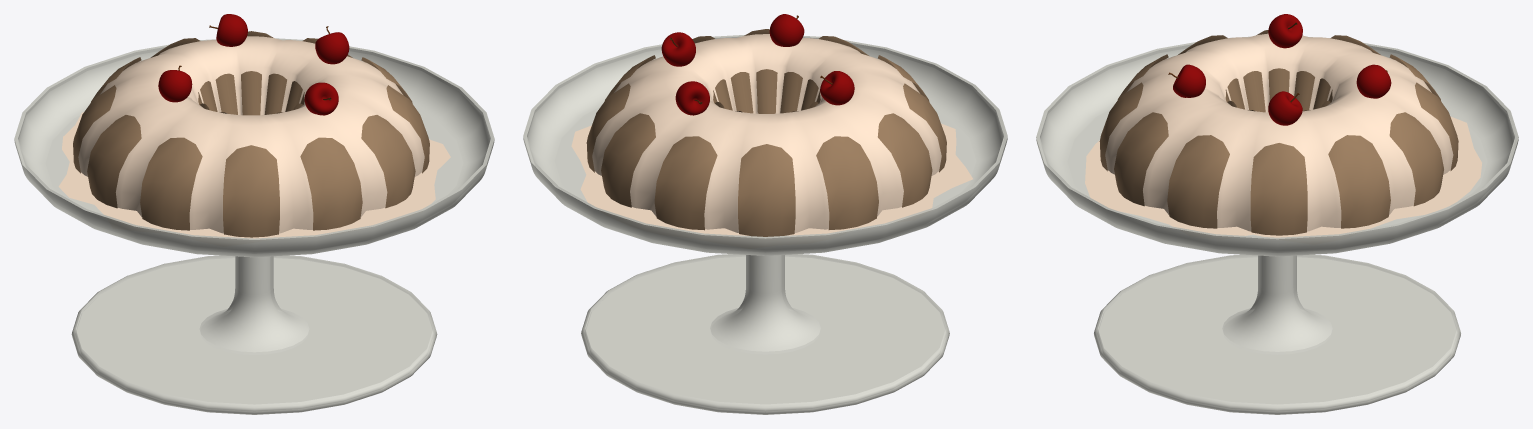
The model's file is cake.fbx.
The picture shows the model from 3 angles, left to right: view 1: azimuth 30°, elevation 25°; view 2: azimuth 150°, elevation 25°; view 3: azimuth 270°, elevation 25°; orthographic projection.
Parts seen in each view (by area): view 1: Model, Component_4_1, Component_1_1, Patch0_3, Patch0_2, Patch0_1, Patch0_4; view 2: Model, Component_4_1, Component_1_1, Patch0_1, Patch0_4, Patch0_2, Patch0_3; view 3: Model, Component_4_1, Component_1_1, Patch0_2, Patch0_4, Patch0_1, Patch0_3.
Boxes of the visible parts, <box> form: Model: <box>14,38,494,414</box>; Component_4_1: <box>58,36,450,238</box>; Component_1_1: <box>73,31,429,237</box>; Patch0_3: <box>304,82,338,115</box>; Patch0_2: <box>158,70,192,102</box>; Patch0_1: <box>315,32,349,64</box>; Patch0_4: <box>216,14,247,46</box>; Model: <box>523,34,1007,414</box>; Component_4_1: <box>571,34,972,235</box>; Component_1_1: <box>586,29,946,236</box>; Patch0_1: <box>661,32,695,66</box>; Patch0_4: <box>675,81,709,115</box>; Patch0_2: <box>820,71,854,105</box>; Patch0_3: <box>769,14,804,46</box>; Model: <box>1036,36,1518,414</box>; Component_4_1: <box>1085,33,1481,237</box>; Component_1_1: <box>1099,30,1458,235</box>; Patch0_2: <box>1268,14,1302,48</box>; Patch0_4: <box>1356,64,1391,98</box>; Patch0_1: <box>1268,91,1302,125</box>; Patch0_3: <box>1173,64,1205,97</box>.
Size of the model in its own units: 0.3999 by 0.2622 by 0.3999.
